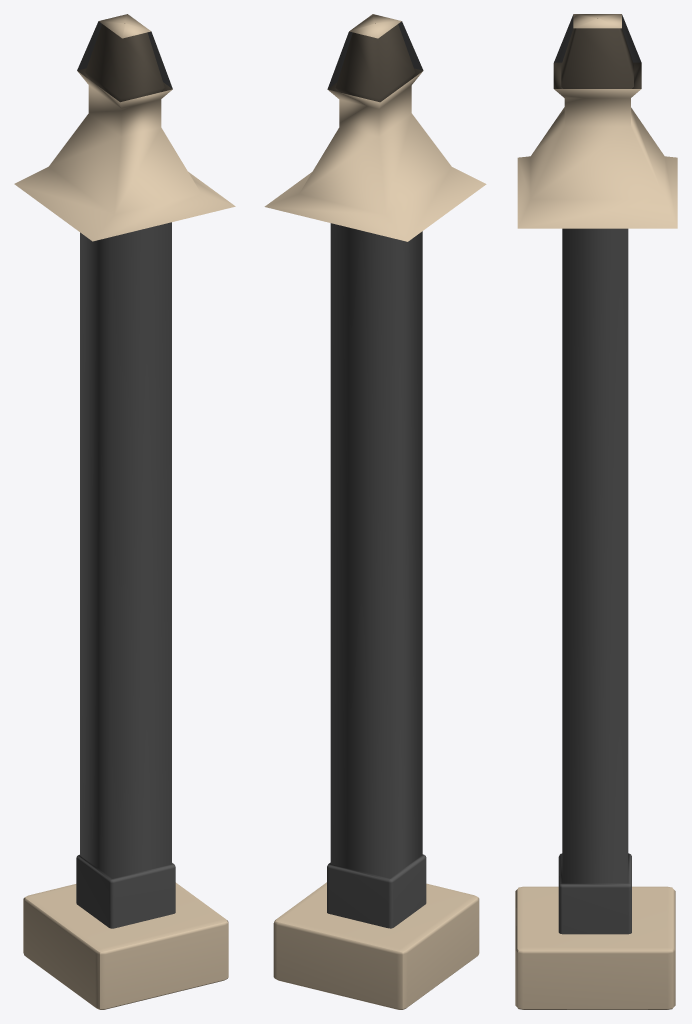
The model's file is LAMP_POST.fbx.
3 views of the same model, side by side, from view 1: azimuth 30°, elevation 25°; view 2: azimuth 150°, elevation 25°; view 3: azimuth 270°, elevation 25° (orthographic).
Parts seen in each view (by area): view 1: pCube5; view 2: pCube5; view 3: pCube5.
Part boxes in pixels (x1,y1,x2,y2): pCube5: [14, 14, 235, 1009]; pCube5: [264, 14, 486, 1009]; pCube5: [515, 14, 677, 1009].
Size of the model in its own units: 46.42 by 292 by 44.81.
